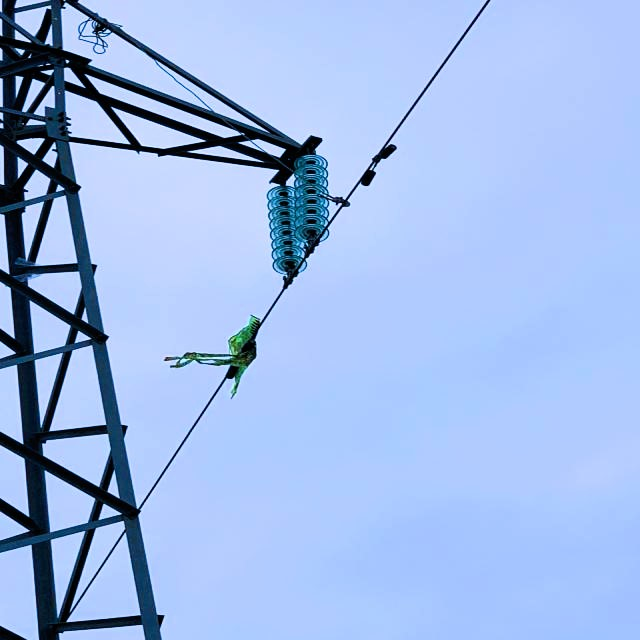wire foreign body: (180, 312, 283, 393)
